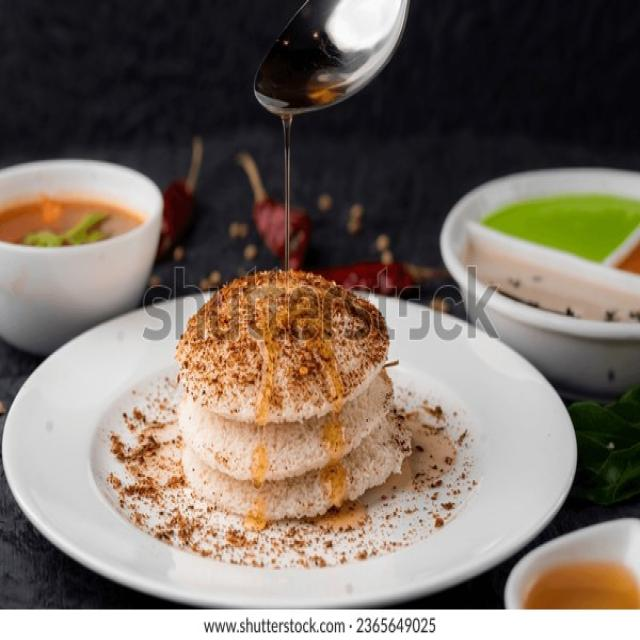IDLI: (170, 265, 408, 525)
